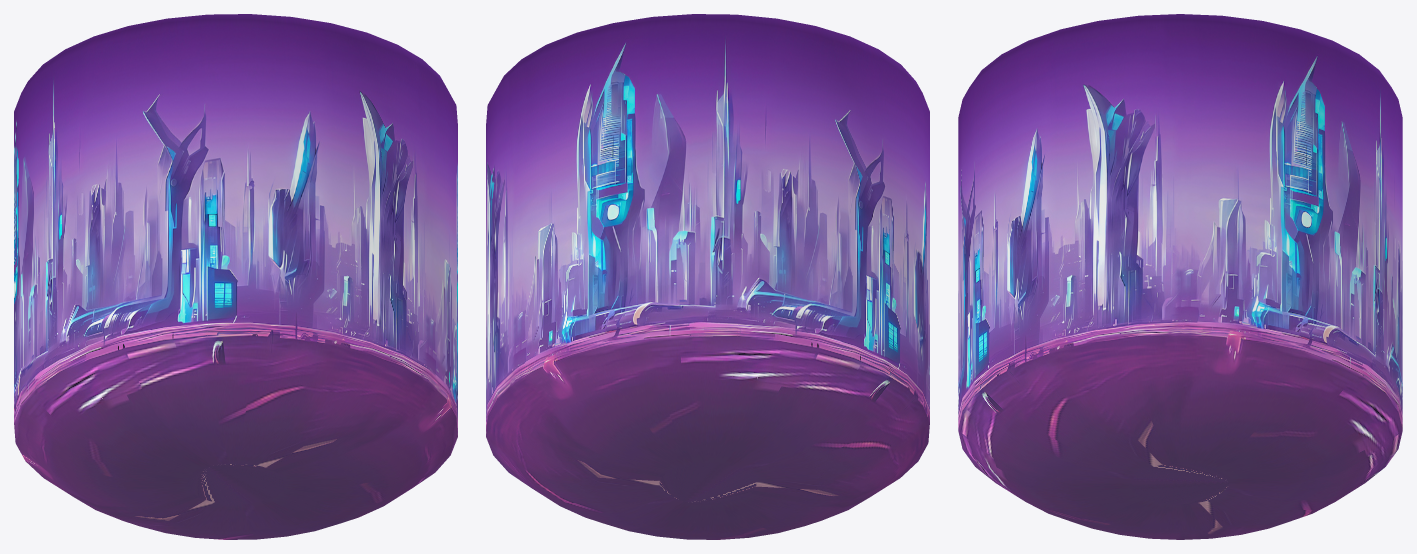
The model's file is futuristic_city_pano.glb.
3 renders of one model, left to right at view 1: azimuth 30°, elevation 25°; view 2: azimuth 150°, elevation 25°; view 3: azimuth 270°, elevation 25°, orthographic.
Visible parts, largest first — view 1: Cylinder_0; view 2: Cylinder_0; view 3: Cylinder_0.
Boxes of the visible parts, box(x1,y1,x2,y2) form: Cylinder_0: box(14, 14, 457, 539); Cylinder_0: box(486, 14, 929, 539); Cylinder_0: box(958, 14, 1402, 539).
Bounding box in the file's own units: 179 × 174 × 179.
Materials: 1 (1 with a texture image).
